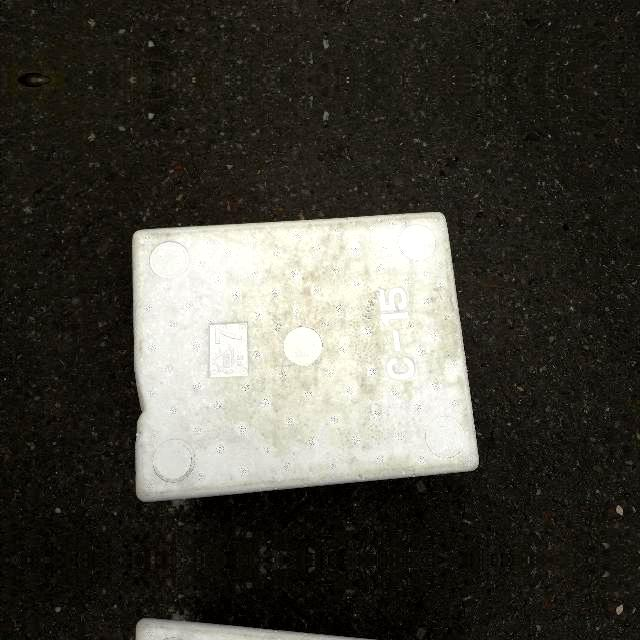Styrofoam: (130, 210, 482, 502), (131, 212, 479, 502)
